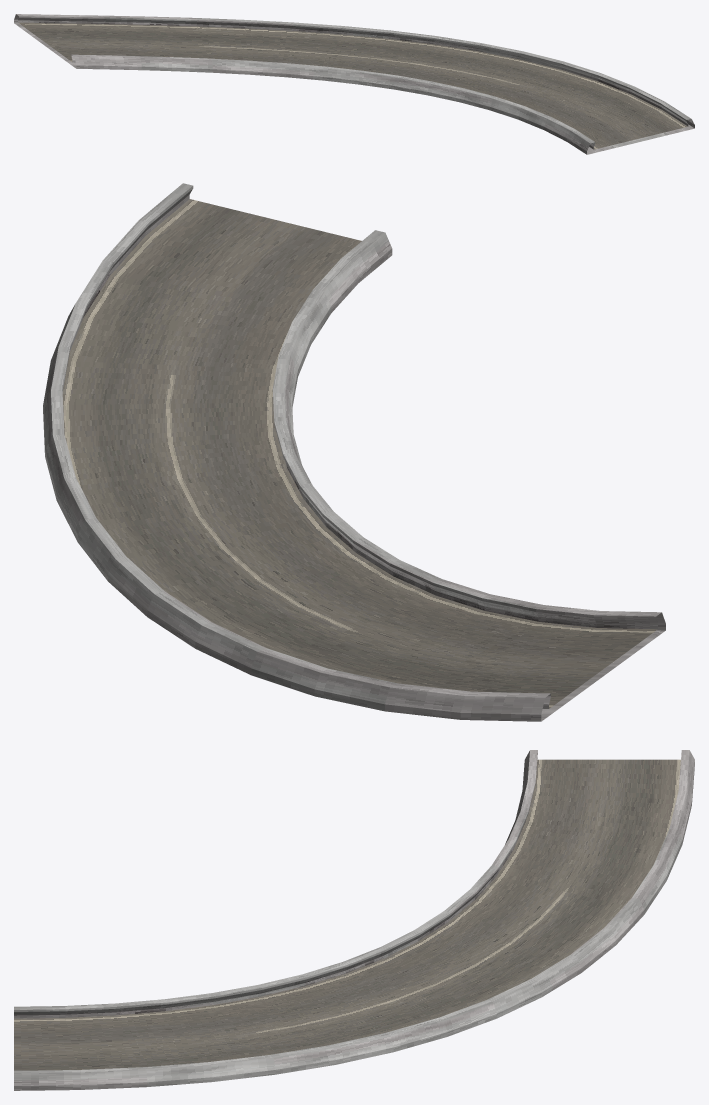
Rendered from turn-left4x4.glb.
3 views of the same model, one above another, from view 1: azimuth 30°, elevation 25°; view 2: azimuth 150°, elevation 25°; view 3: azimuth 270°, elevation 25° (orthographic). The views are drawn at different scales.
Visible parts, largest first — view 1: road-Turn-Flat-BiSlopeUp-Up1-Left-Size4; view 2: road-Turn-Flat-BiSlopeUp-Up1-Left-Size4; view 3: road-Turn-Flat-BiSlopeUp-Up1-Left-Size4.
Part boxes in pixels (x1=…): road-Turn-Flat-BiSlopeUp-Up1-Left-Size4: x1=14, y1=14, x2=694, y2=154; road-Turn-Flat-BiSlopeUp-Up1-Left-Size4: x1=43, y1=183, x2=665, y2=721; road-Turn-Flat-BiSlopeUp-Up1-Left-Size4: x1=14, y1=750, x2=694, y2=1090.
Size of the model in its own units: 4 by 0.4259 by 4.
2 materials, 2 textured.
